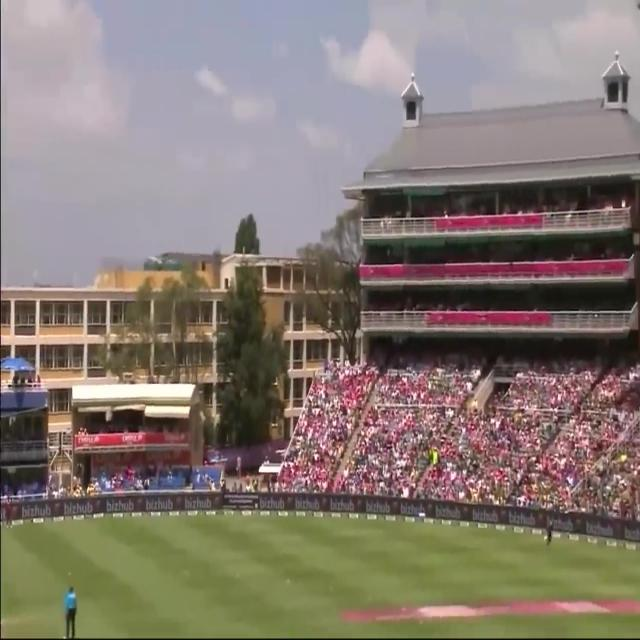Umpire: (58, 582, 79, 638)
